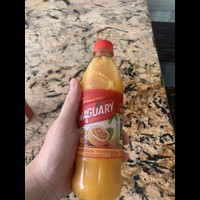maguary: (75, 36, 126, 199)
